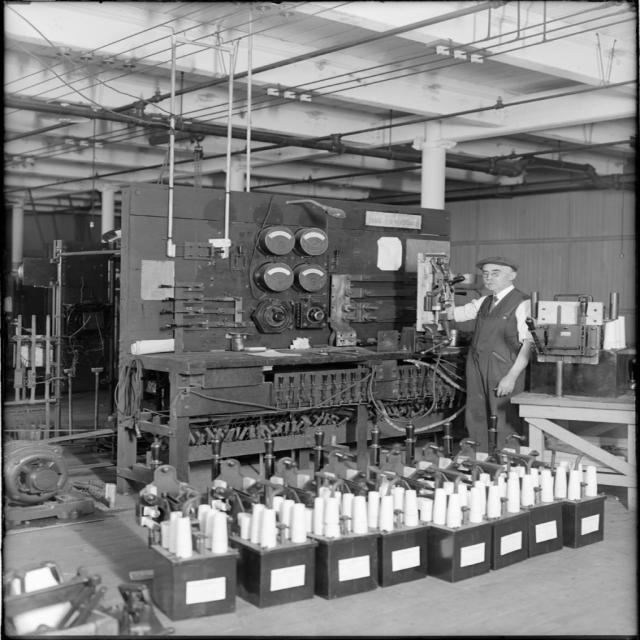Person: (447, 256, 538, 453)
